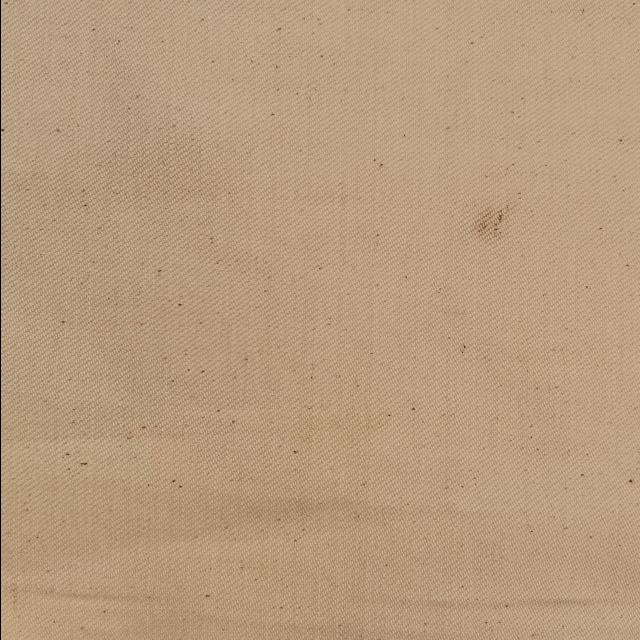taaaches: (454, 196, 537, 246)
